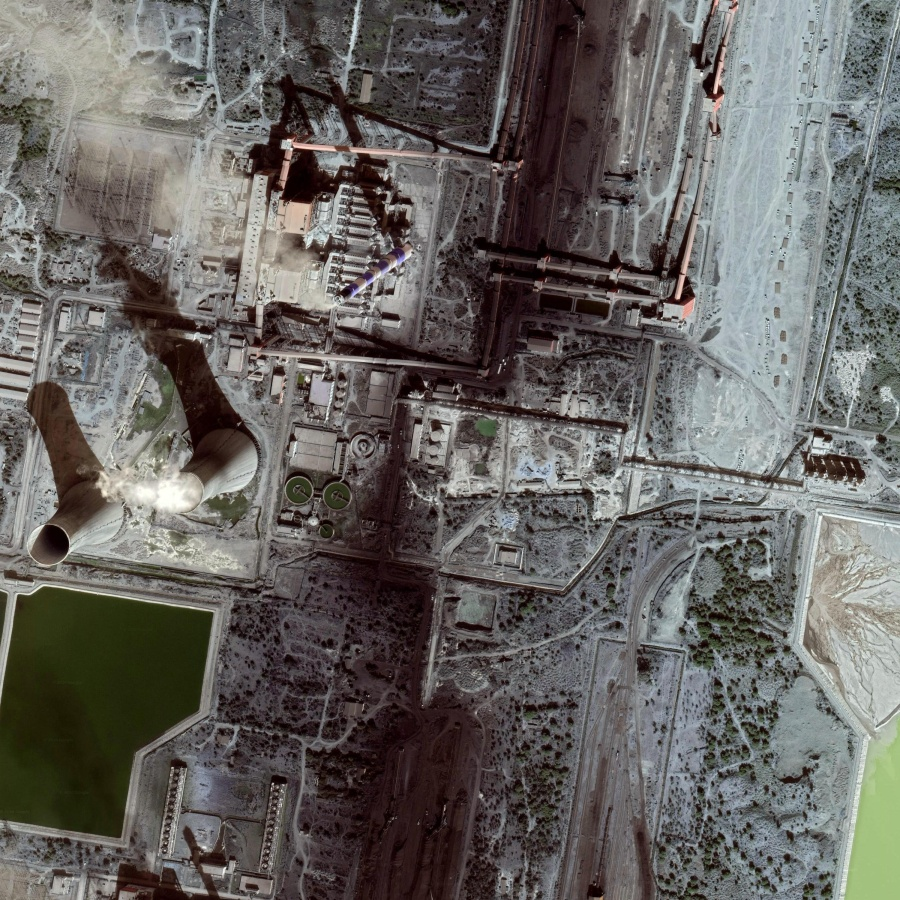PowerPlant: (14, 47, 676, 584)
